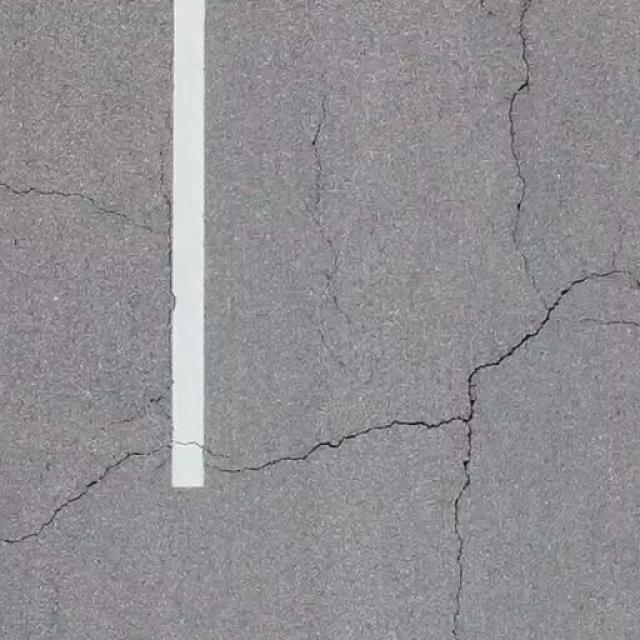Crack: (464, 214, 640, 388), (471, 0, 566, 248), (247, 410, 479, 500), (10, 424, 144, 574), (437, 340, 495, 640)
